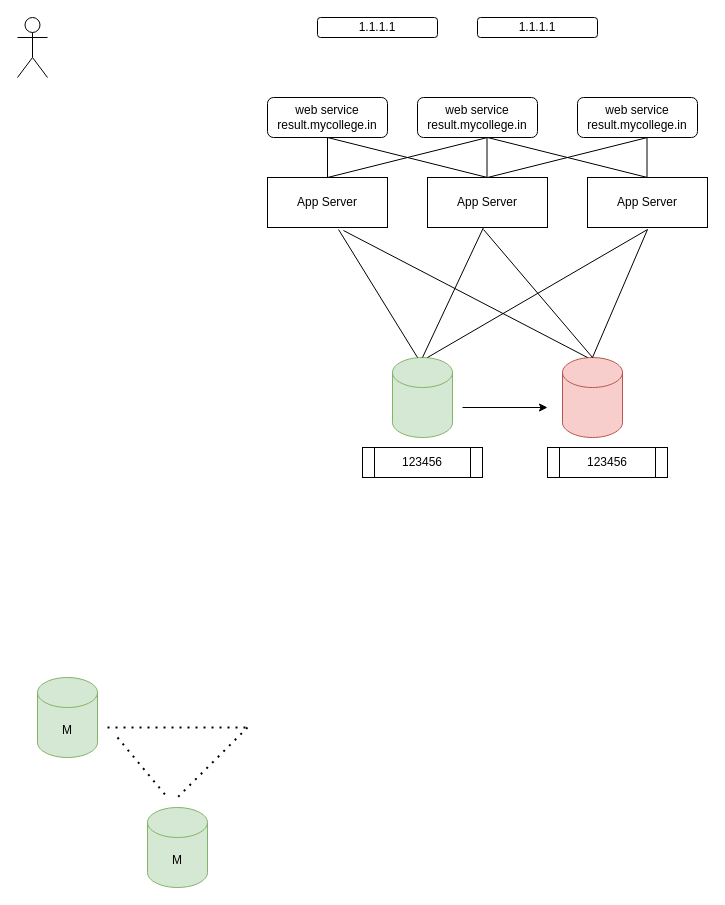
Some shapes in this 725 by 905 pixel diagram are drawn without their labels. The shapes that lost their labels are listed below. From the top down, each one's box as (x1, y1, x2, y2) in pixels, then its label:
(16, 16, 48, 78): Actor
(392, 356, 452, 438): PG DB1 RW
(562, 356, 622, 438): PG DB1 RO
